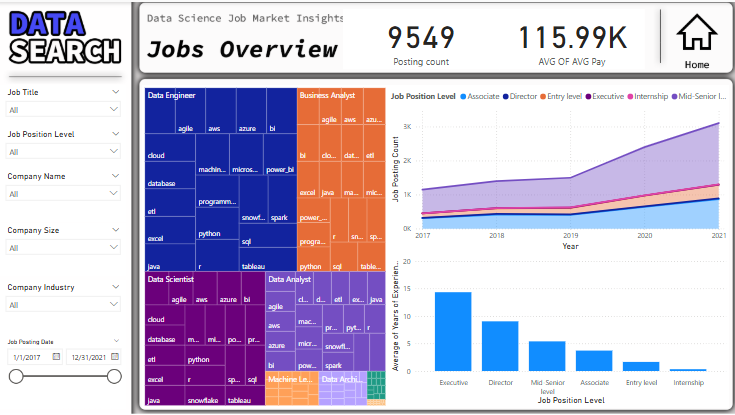

The page's visual inventory and layout, read from the dashboard file:
{"tool":"powerbi","page":{"name":"Jobs","canvas":[1280,720],"ordinal":1},"visuals":[{"type":"clusteredColumnChart","fields":{"Category":["job_postings.Job Position Level"],"Y":["Avg(job_postings.Years of Experience)"]},"box":[676.2,437.6,594.4,269.6],"z":0},{"type":"stackedAreaChart","fields":{"Category":["job_postings.Job Posting Date.Variation.Date Hierarchy.Year","job_postings.Job Posting Date.Variation.Date Hierarchy.Quarter","job_postings.Job Posting Date.Variation.Date Hierarchy.Month","job_postings.Job Posting Date.Variation.Date Hierarchy.Day"],"Y":["CountNonNull(job_postings.Job Posting ID)"],"Series":["job_postings.Job Position Level"]},"box":[676.2,144,594.4,293.6],"z":1000},{"type":"treemap","fields":{"Group":["job_postings.Job Title"],"Values":["CountNonNull(job_postings.Job Title)"],"Details":["Job Skills.Job Skills"]},"box":[247.1,144,429.2,563.3],"z":2000},{"type":"slicer","fields":{"Values":["job_postings.Job Title"]},"box":[0,144,220.4,72.9],"z":3000},{"type":"slicer","fields":{"Values":["job_postings.Job Position Level"]},"box":[0,216.9,220.4,74.7],"z":4000},{"type":"slicer","fields":{"Values":["job_postings.Company Name"]},"box":[0,290.8,220.2,93.2],"z":5000},{"type":"slicer","fields":{"Values":["job_postings.Company Size"]},"box":[0,384,220.4,92.4],"z":6000},{"type":"slicer","fields":{"Values":["job_postings.Company Industry"]},"box":[0,483.6,220.4,96],"z":7000},{"type":"slicer","fields":{"Values":["job_postings.Job Posting Date"]},"box":[0,579.6,220.4,128],"z":8000},{"type":"card","fields":{"Values":["__Measure.Posting count"]},"box":[597.3,12.4,272,104.9],"z":8001},{"type":"card","fields":{"Values":["__Measure.AVG OF AVG Pay"]},"box":[869.3,12.4,254.2,104.9],"z":8002},{"type":"image","box":[1172,0,83.6,104.5],"z":8003}]}

Visuals, with their boxes in screenshot pixels (x1, y1, x2, y2), scaled from the page's 1280x720 canvas onto the 735x415 screenshot:
clusteredColumnChart - job_postings.Job Position Level x Avg(job_postings.Years of Experience): <bbox>388, 252, 730, 408</bbox>
stackedAreaChart - job_postings.Job Posting Date.Variation.Date Hierarchy.Year x job_postings.Job Posting Date.Variation.Date Hierarchy.Quarter: <bbox>388, 83, 730, 252</bbox>
treemap - job_postings.Job Title x CountNonNull(job_postings.Job Title): <bbox>142, 83, 388, 408</bbox>
slicer - job_postings.Job Title: <bbox>0, 83, 127, 125</bbox>
slicer - job_postings.Job Position Level: <bbox>0, 125, 127, 168</bbox>
slicer - job_postings.Company Name: <bbox>0, 168, 126, 221</bbox>
slicer - job_postings.Company Size: <bbox>0, 221, 127, 275</bbox>
slicer - job_postings.Company Industry: <bbox>0, 279, 127, 334</bbox>
slicer - job_postings.Job Posting Date: <bbox>0, 334, 127, 408</bbox>
card - __Measure.Posting count: <bbox>343, 7, 499, 68</bbox>
card - __Measure.AVG OF AVG Pay: <bbox>499, 7, 645, 68</bbox>
image: <bbox>673, 0, 721, 60</bbox>
